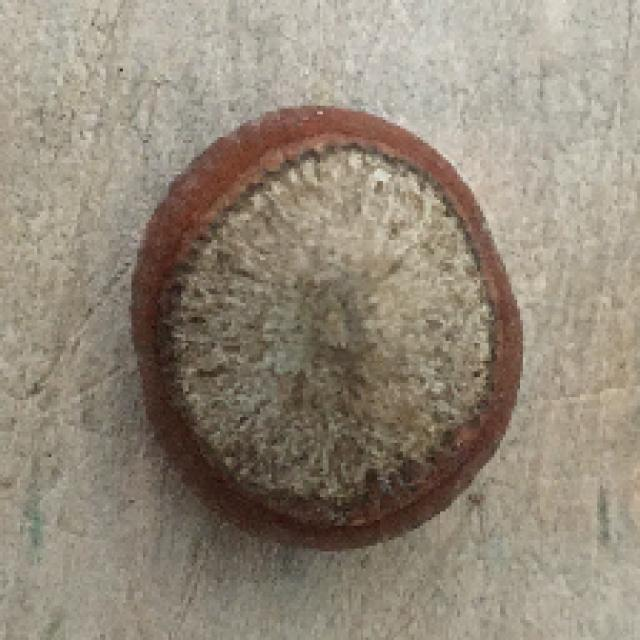qualityHazelnut: (136, 101, 525, 554)
